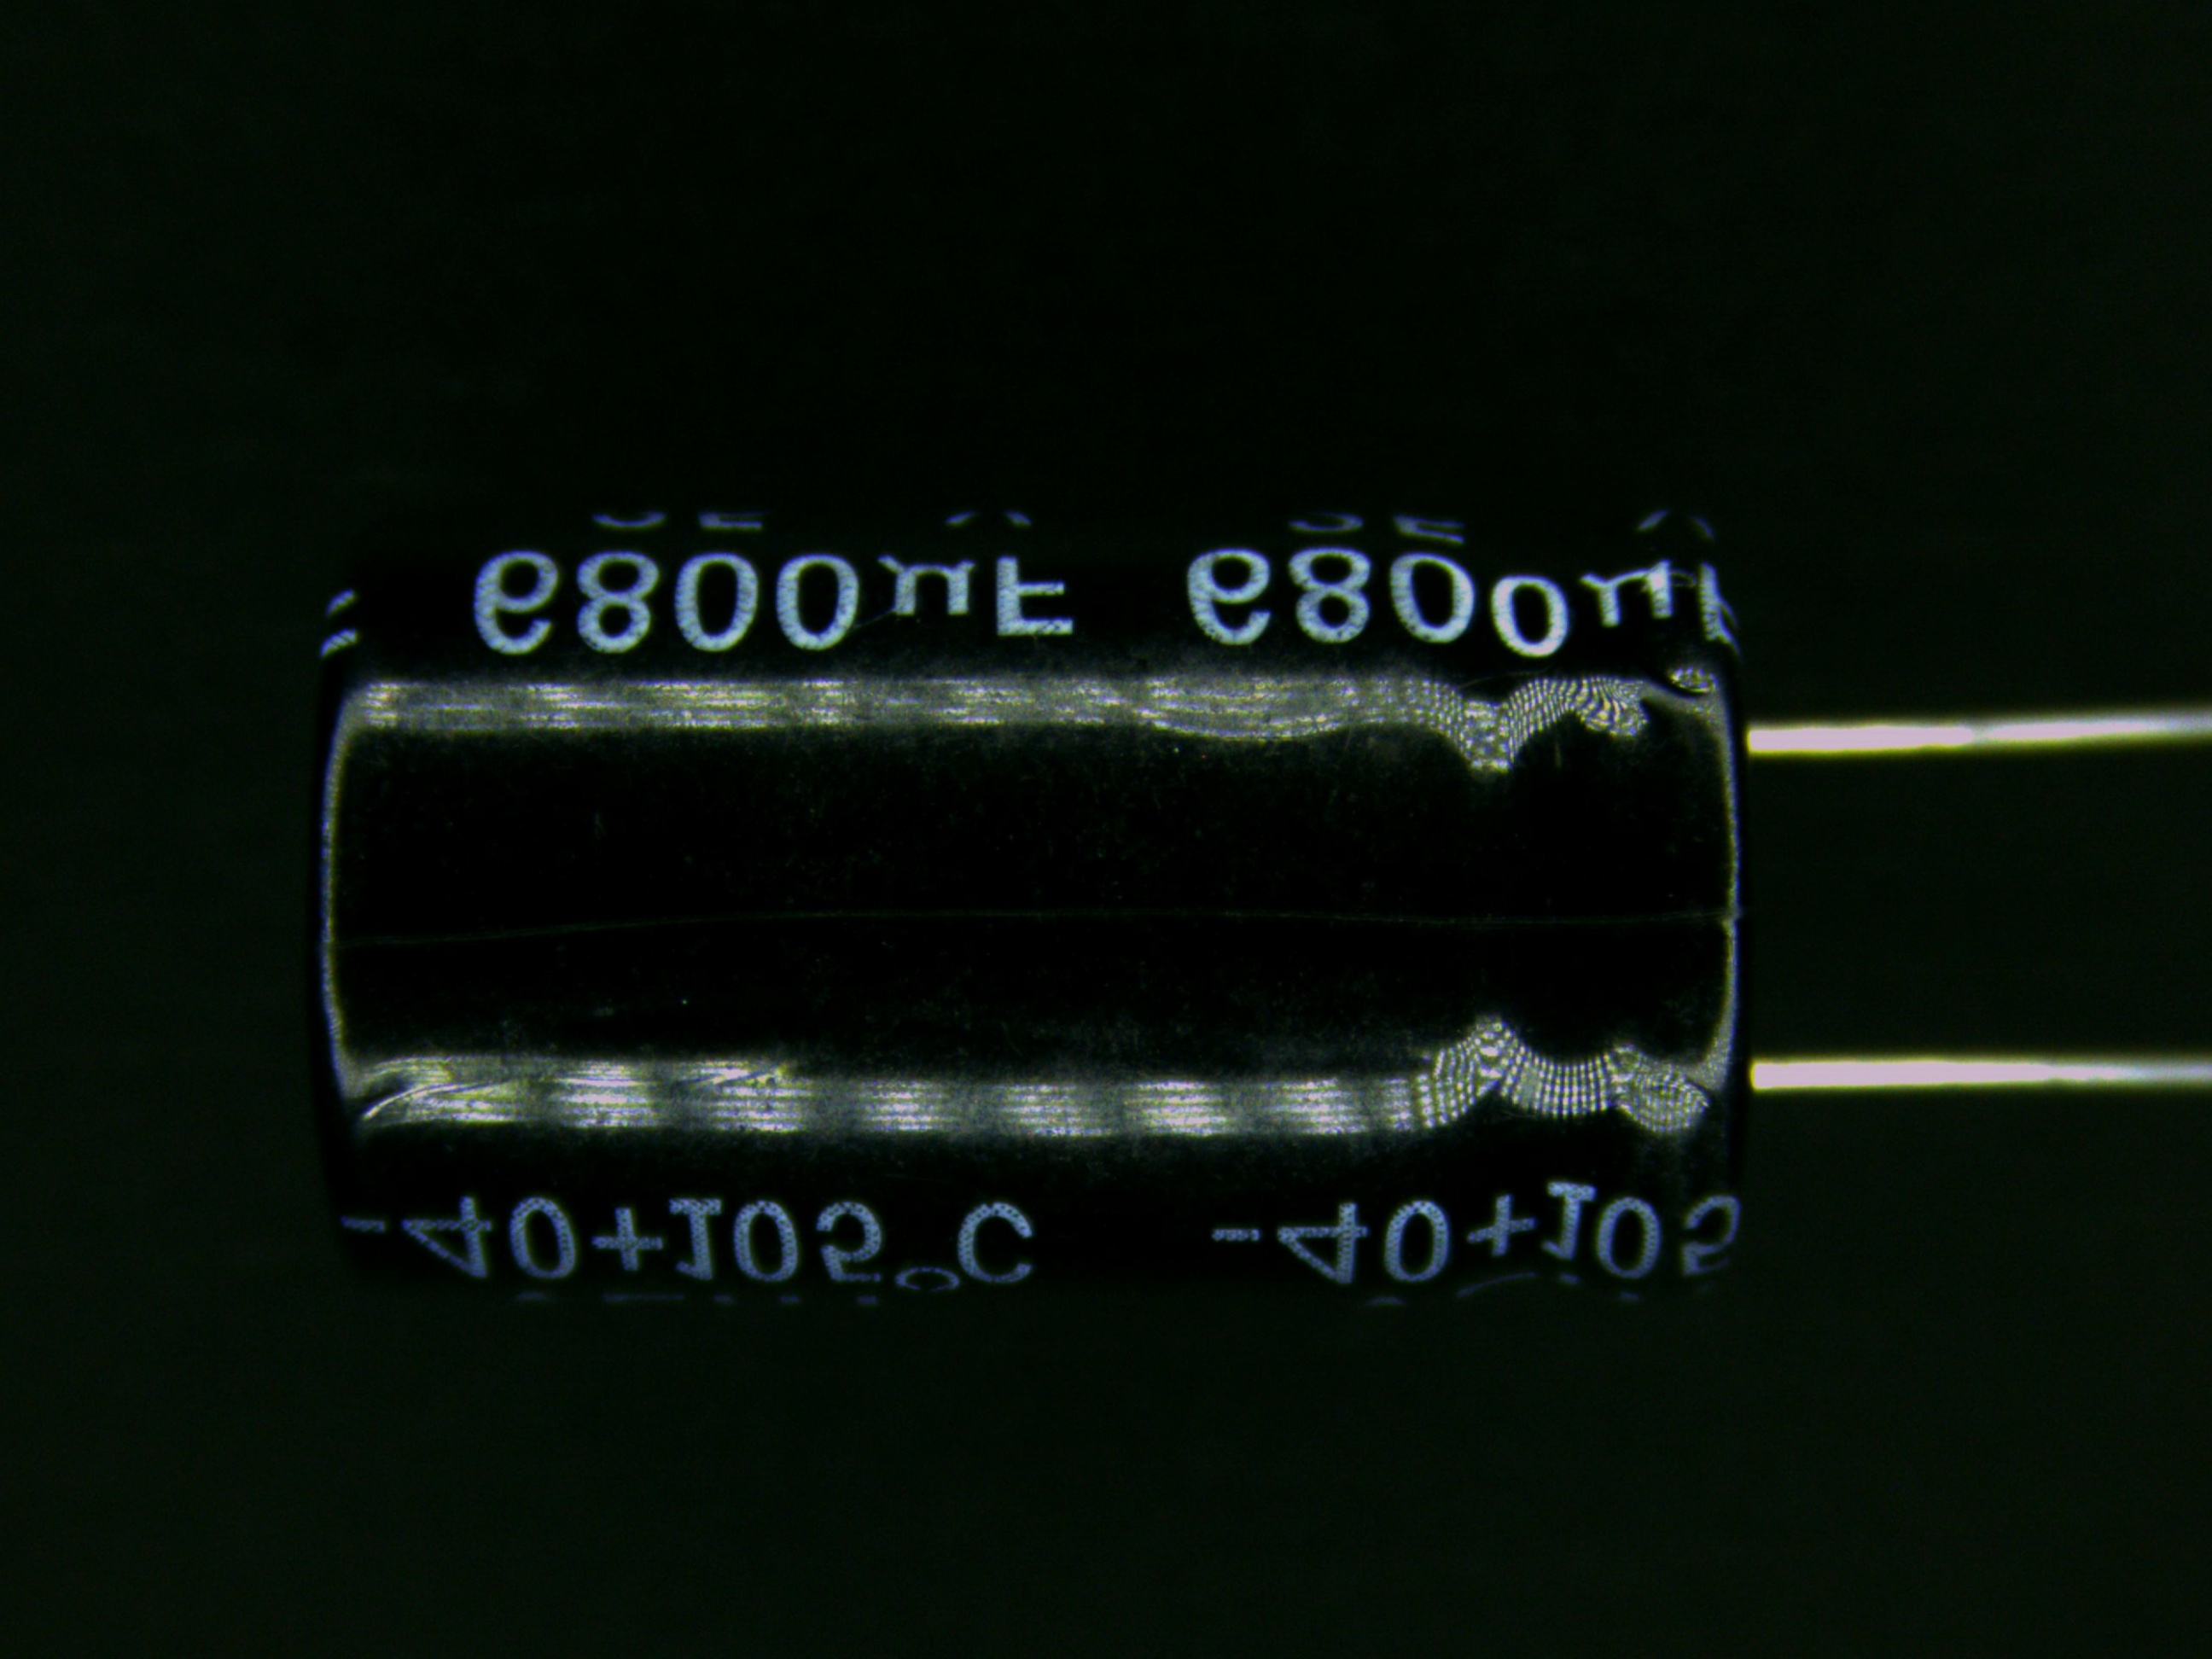c3: (293, 493, 2074, 1309)
